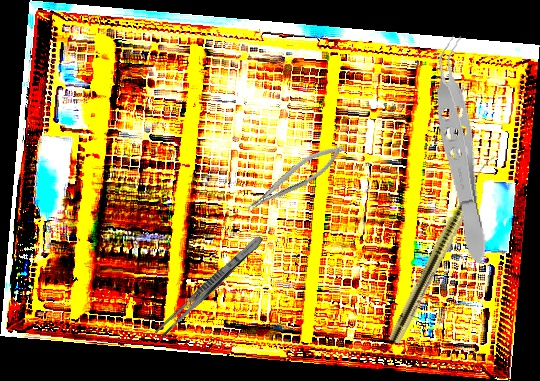Dressing Forceps: (154, 232, 266, 341)
Handpiece: (387, 150, 498, 346)
Needle Holder: (239, 138, 350, 218)
Tissue Forceps: (425, 33, 498, 266)
